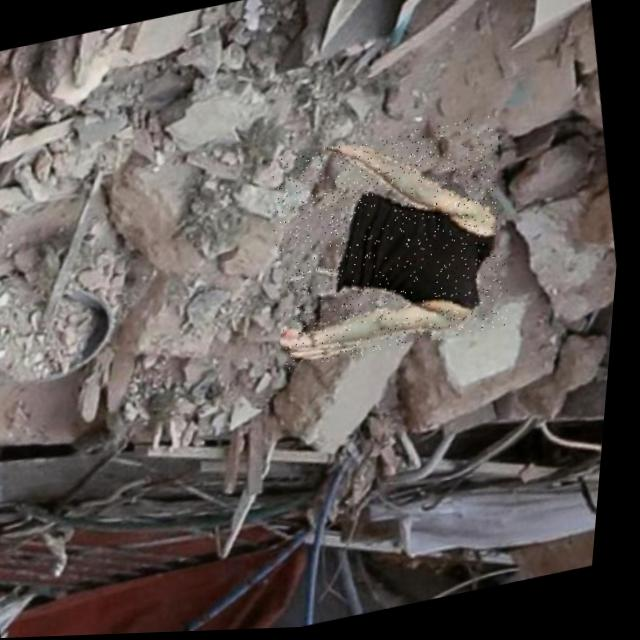Person in Rubble: (255, 116, 529, 375)
